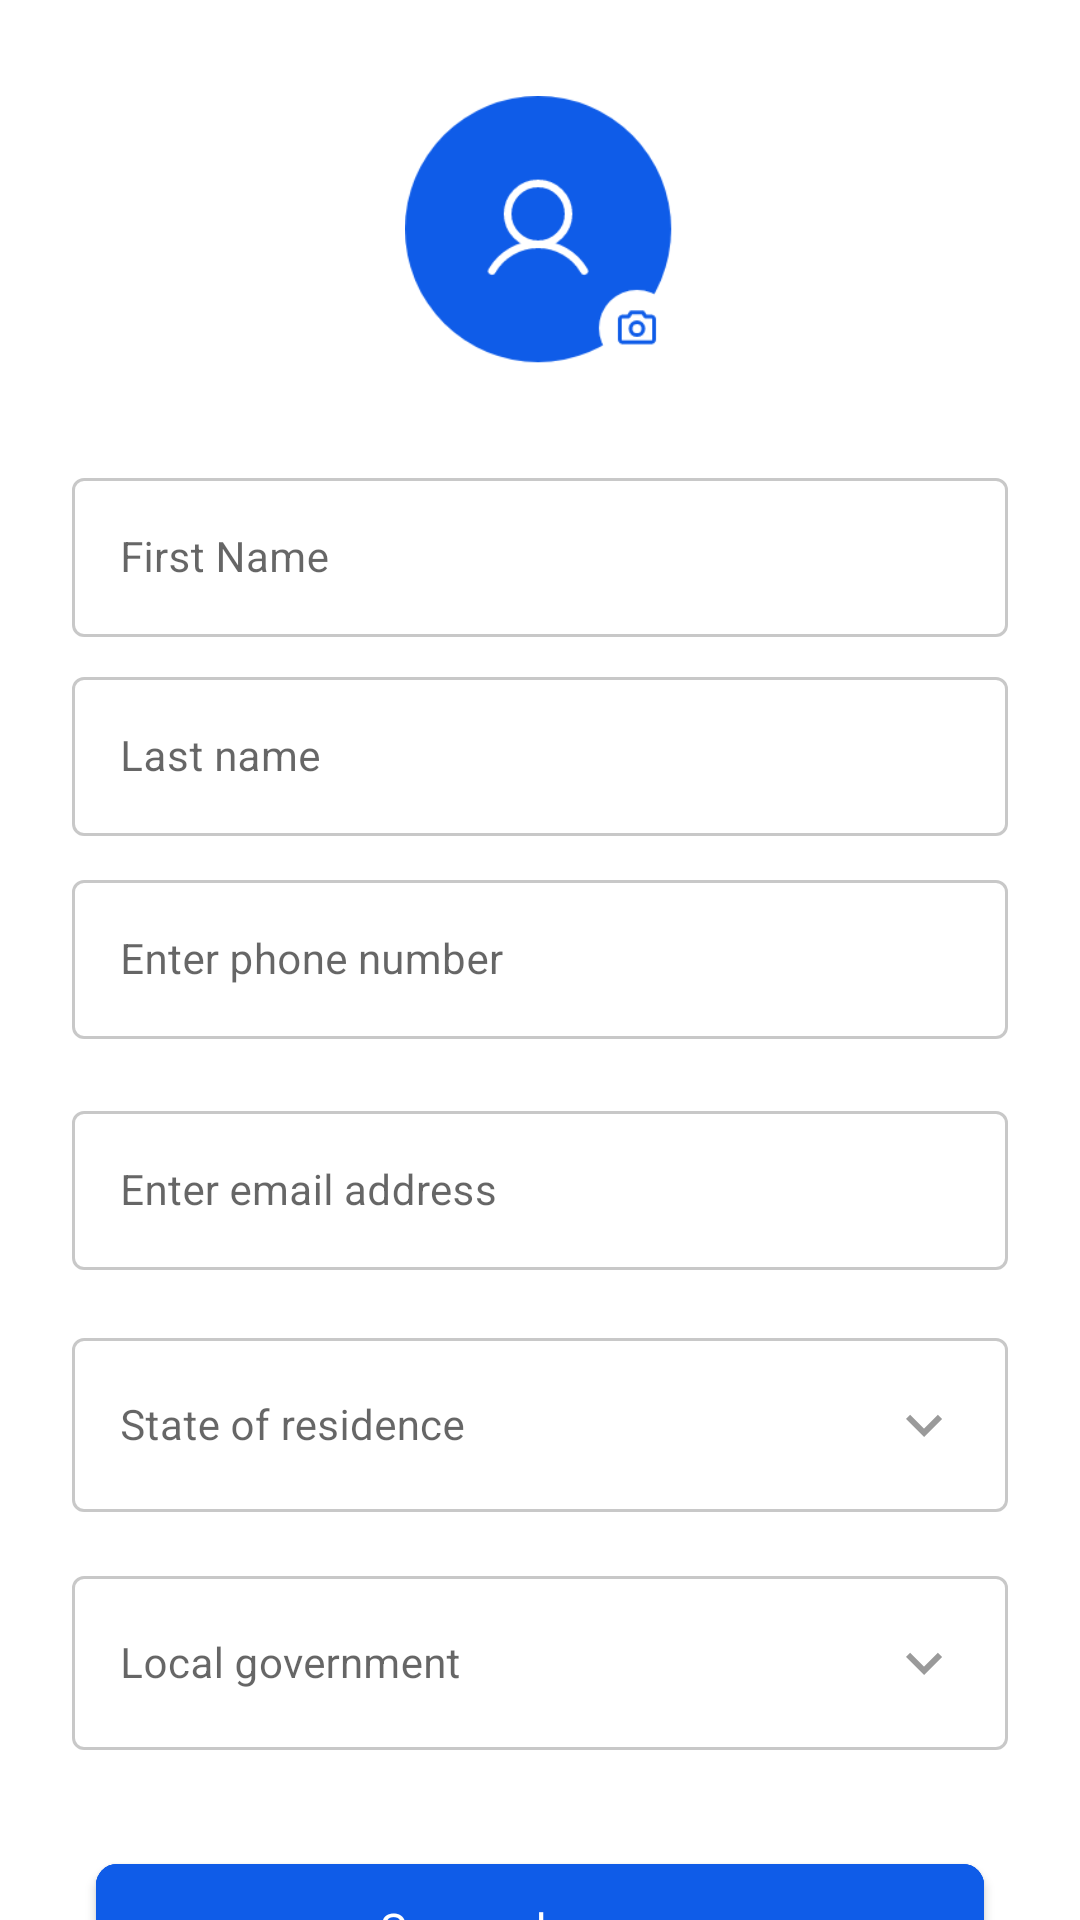

Icons on this 1080px x 1920px Android screen, each with its box as (x1, y1, x2, y2):
profile: (405, 96, 672, 363)
